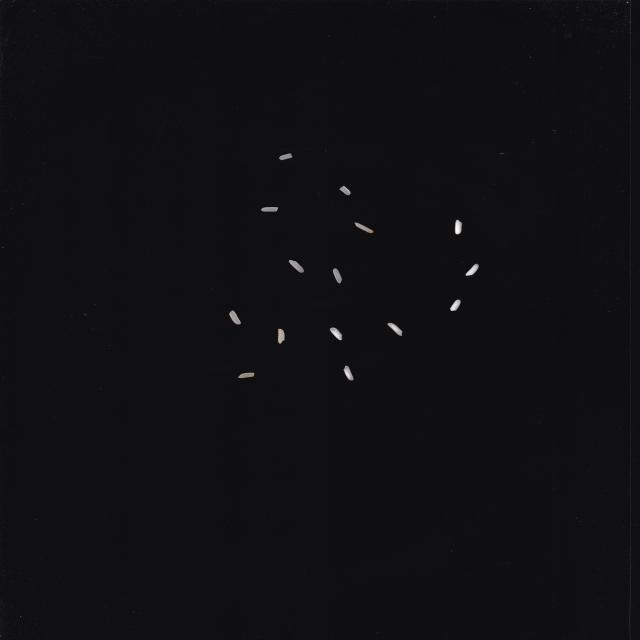Chalky: (388, 322, 403, 337), (330, 327, 343, 341), (343, 365, 354, 381)
Not: (354, 222, 374, 234), (288, 260, 305, 273), (228, 310, 242, 325), (465, 263, 479, 276), (332, 268, 343, 284), (454, 219, 463, 235), (450, 300, 461, 312), (277, 329, 285, 344), (339, 186, 351, 196), (237, 372, 255, 378), (278, 153, 293, 160), (261, 207, 279, 212)
